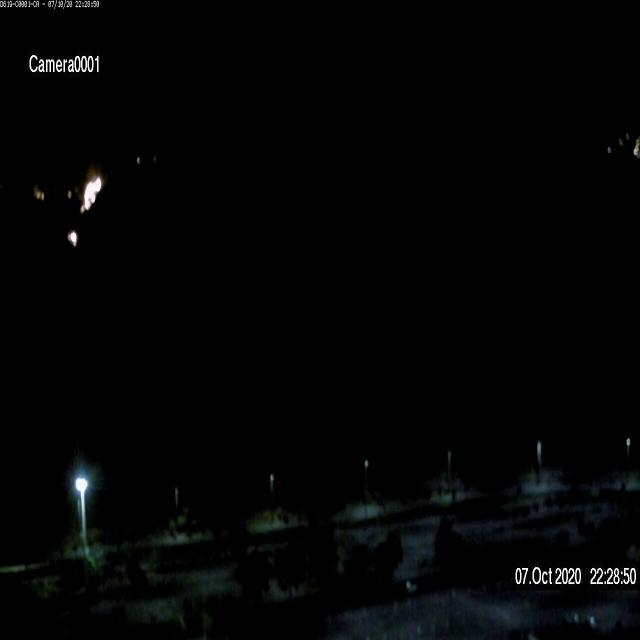Fire: (79, 172, 105, 212)
